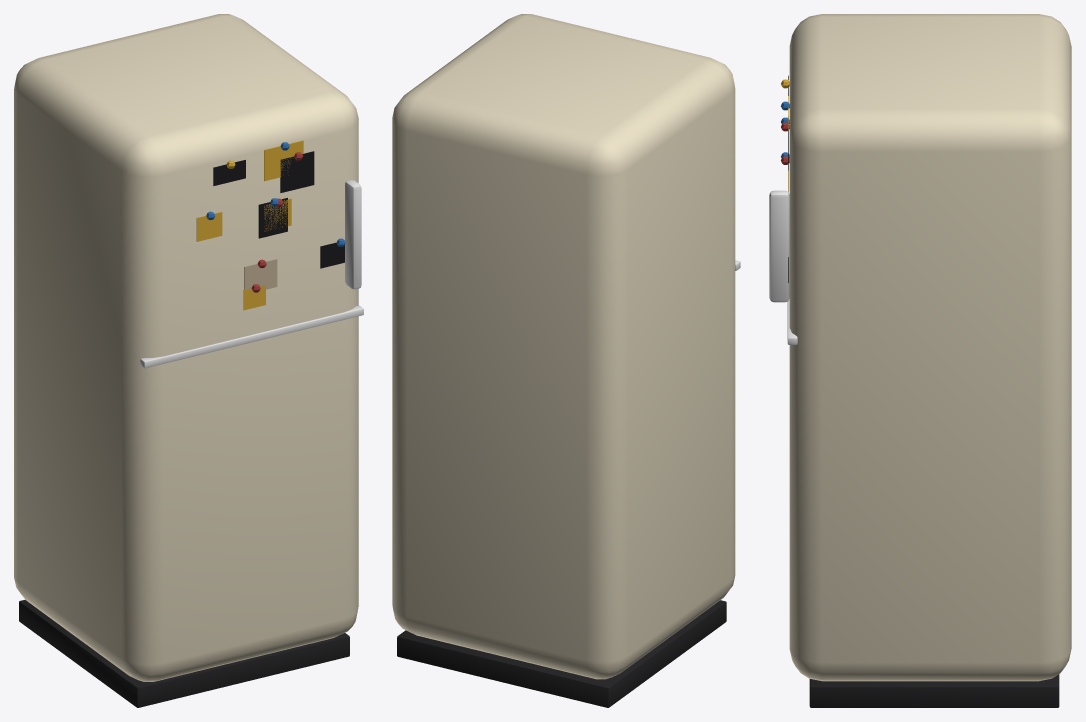
File: mae_fridge.glb
3 views of the same model, side by side, from view 1: azimuth 30°, elevation 25°; view 2: azimuth 150°, elevation 25°; view 3: azimuth 270°, elevation 25° (orthographic). The views are drawn at different scales.
Visible parts, largest first — view 1: mae_fridge; view 2: mae_fridge; view 3: mae_fridge.
Boxes of the visible parts, box(x1,y1,x2,y2) form: mae_fridge: box(14, 14, 363, 707); mae_fridge: box(392, 14, 740, 707); mae_fridge: box(769, 14, 1071, 707).
Size of the model in its own units: 0.7 by 1.62 by 0.75.
